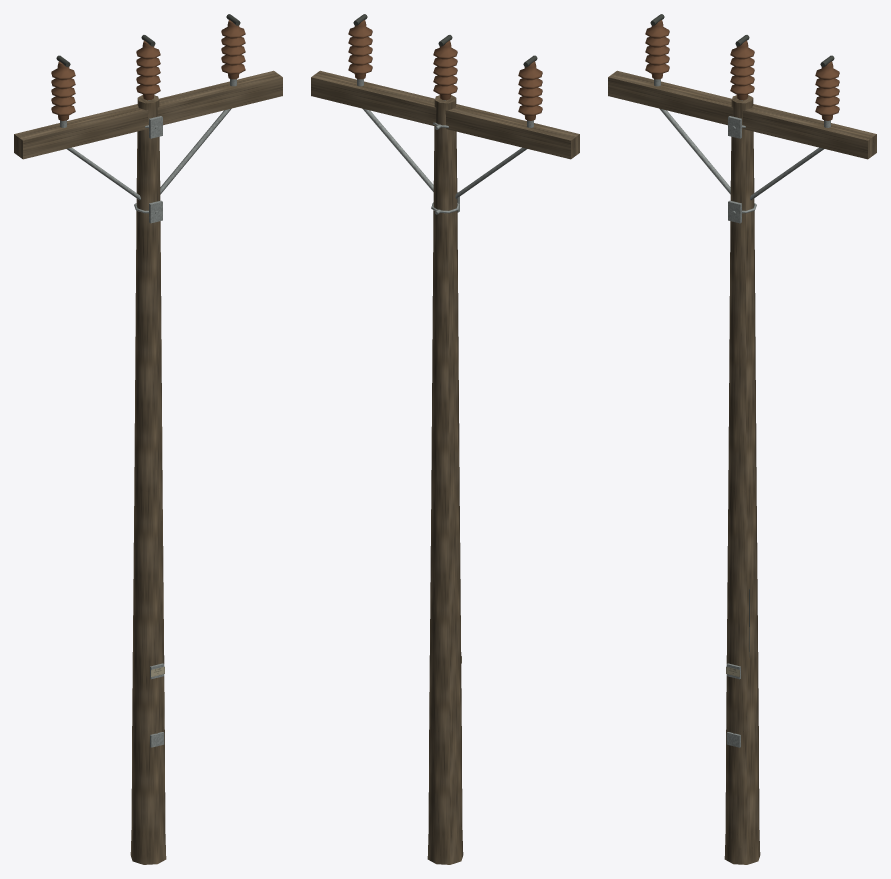
File: SM_SubstationSite_Pole_B_LOD2.fbx
3 views of the same model, side by side, from view 1: azimuth 30°, elevation 25°; view 2: azimuth 150°, elevation 25°; view 3: azimuth 330°, elevation 25° (orthographic).
Visible parts, largest first — view 1: SM_SubstationSite_Pole_B_LOD2; view 2: SM_SubstationSite_Pole_B_LOD2; view 3: SM_SubstationSite_Pole_B_LOD2.
Boxes of the visible parts, x1,y1,x2,y2 form: SM_SubstationSite_Pole_B_LOD2: (14,14,282,864); SM_SubstationSite_Pole_B_LOD2: (311,14,579,864); SM_SubstationSite_Pole_B_LOD2: (608,14,876,864).
Bounding box in the file's own units: 3.18 × 0.394 × 9.58.
